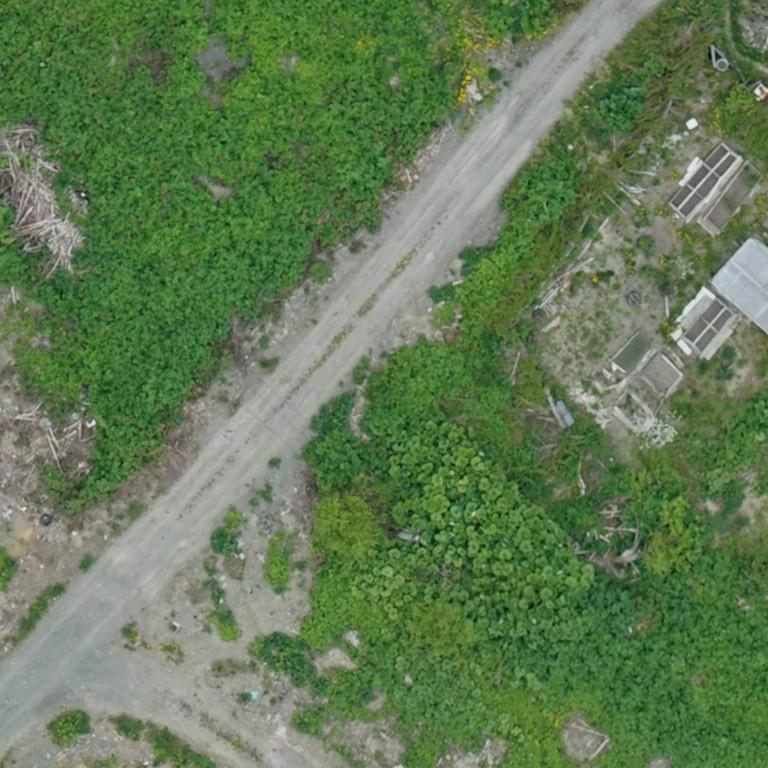hogweed: (503, 562, 767, 767), (261, 632, 372, 730), (304, 394, 384, 490), (597, 76, 641, 133)
